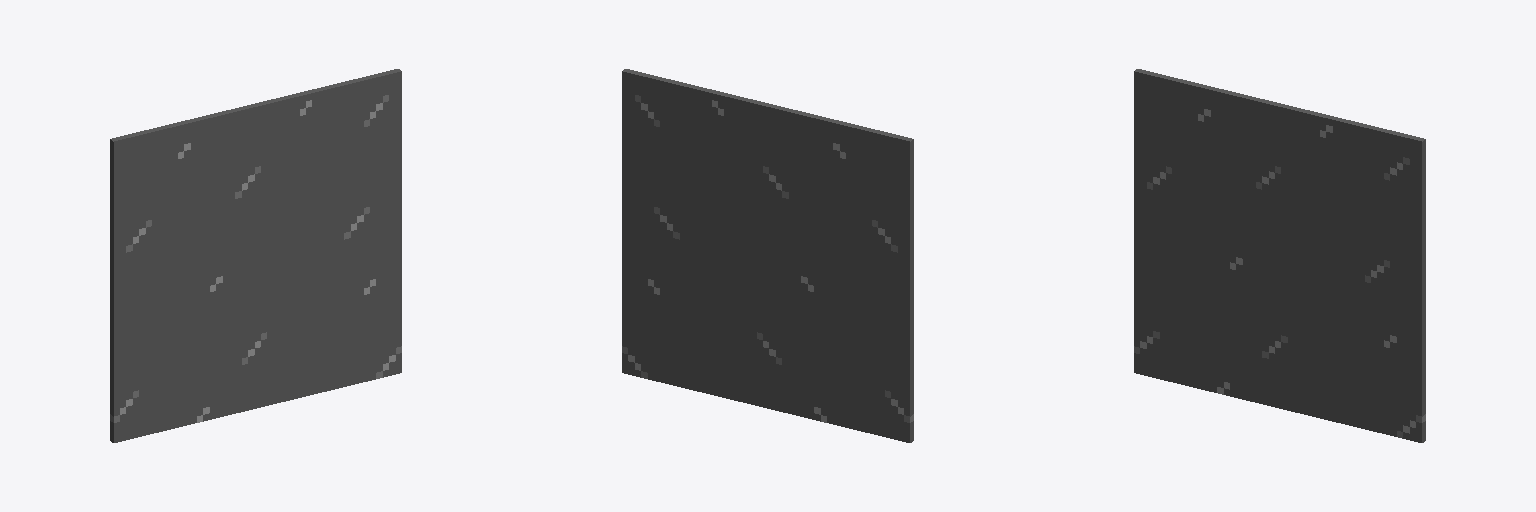
The picture shows the model from 3 angles: view 1: azimuth 30°, elevation 25°; view 2: azimuth 150°, elevation 25°; view 3: azimuth 330°, elevation 25°; orthographic projection.
Bounding box in the file's own units: 45 × 45 × 1.
Materials: 1 (1 with a texture image).